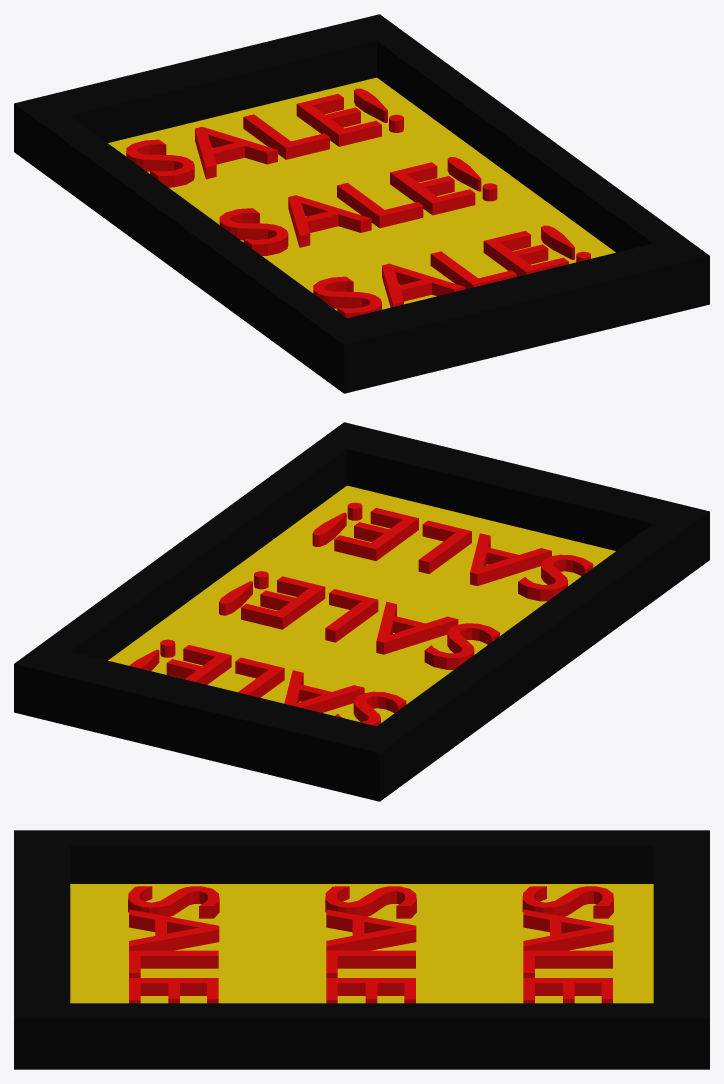
The model's file is sale poster.fbx.
3 renders of one model, top to bottom at view 1: azimuth 30°, elevation 25°; view 2: azimuth 150°, elevation 25°; view 3: azimuth 270°, elevation 25°, orthographic. The views are drawn at different scales.
Visible parts, largest first — view 1: sale poster, Text.001, Text, Text.002; view 2: sale poster, Text.002, Text.001, Text; view 3: sale poster, Text.001, Text, Text.002.
Boxes of the visible parts, <box> form: sale poster: <box>14,14,709,393</box>; Text.001: <box>219,157,497,255</box>; Text: <box>126,88,403,187</box>; Text.002: <box>313,225,590,318</box>; sale poster: <box>14,422,709,801</box>; Text.002: <box>312,502,593,601</box>; Text.001: <box>219,571,499,669</box>; Text: <box>129,639,406,726</box>; sale poster: <box>14,830,709,1069</box>; Text.001: <box>325,886,416,1003</box>; Text: <box>522,886,613,1003</box>; Text.002: <box>128,886,219,1003</box>.
Bounding box in the file's own units: 339 × 43.04 × 529.
